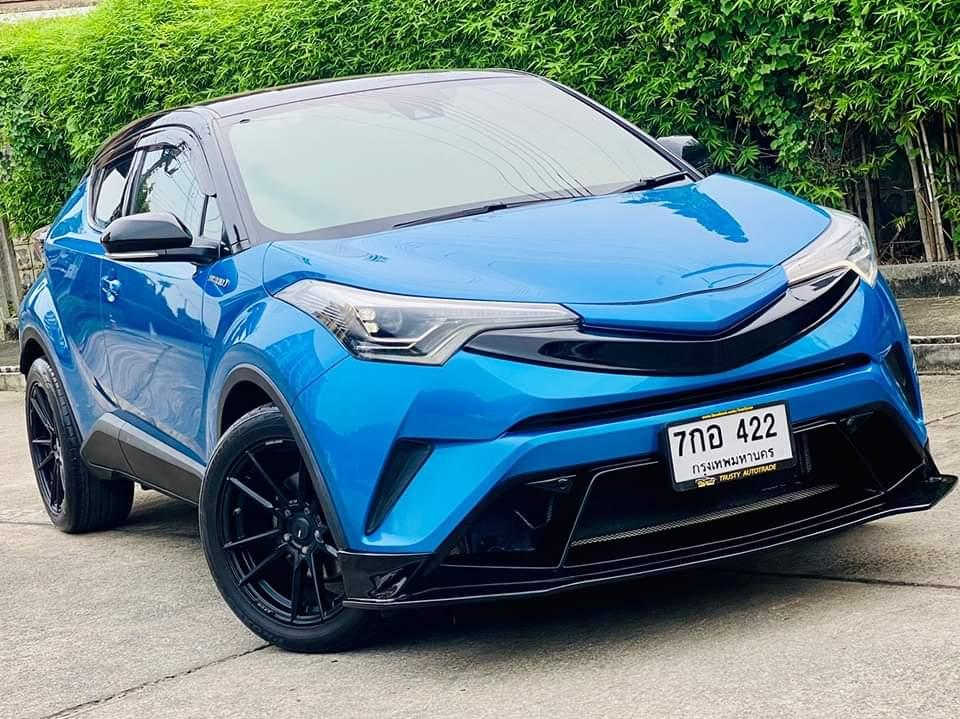license-plate: (660, 397, 799, 497)
